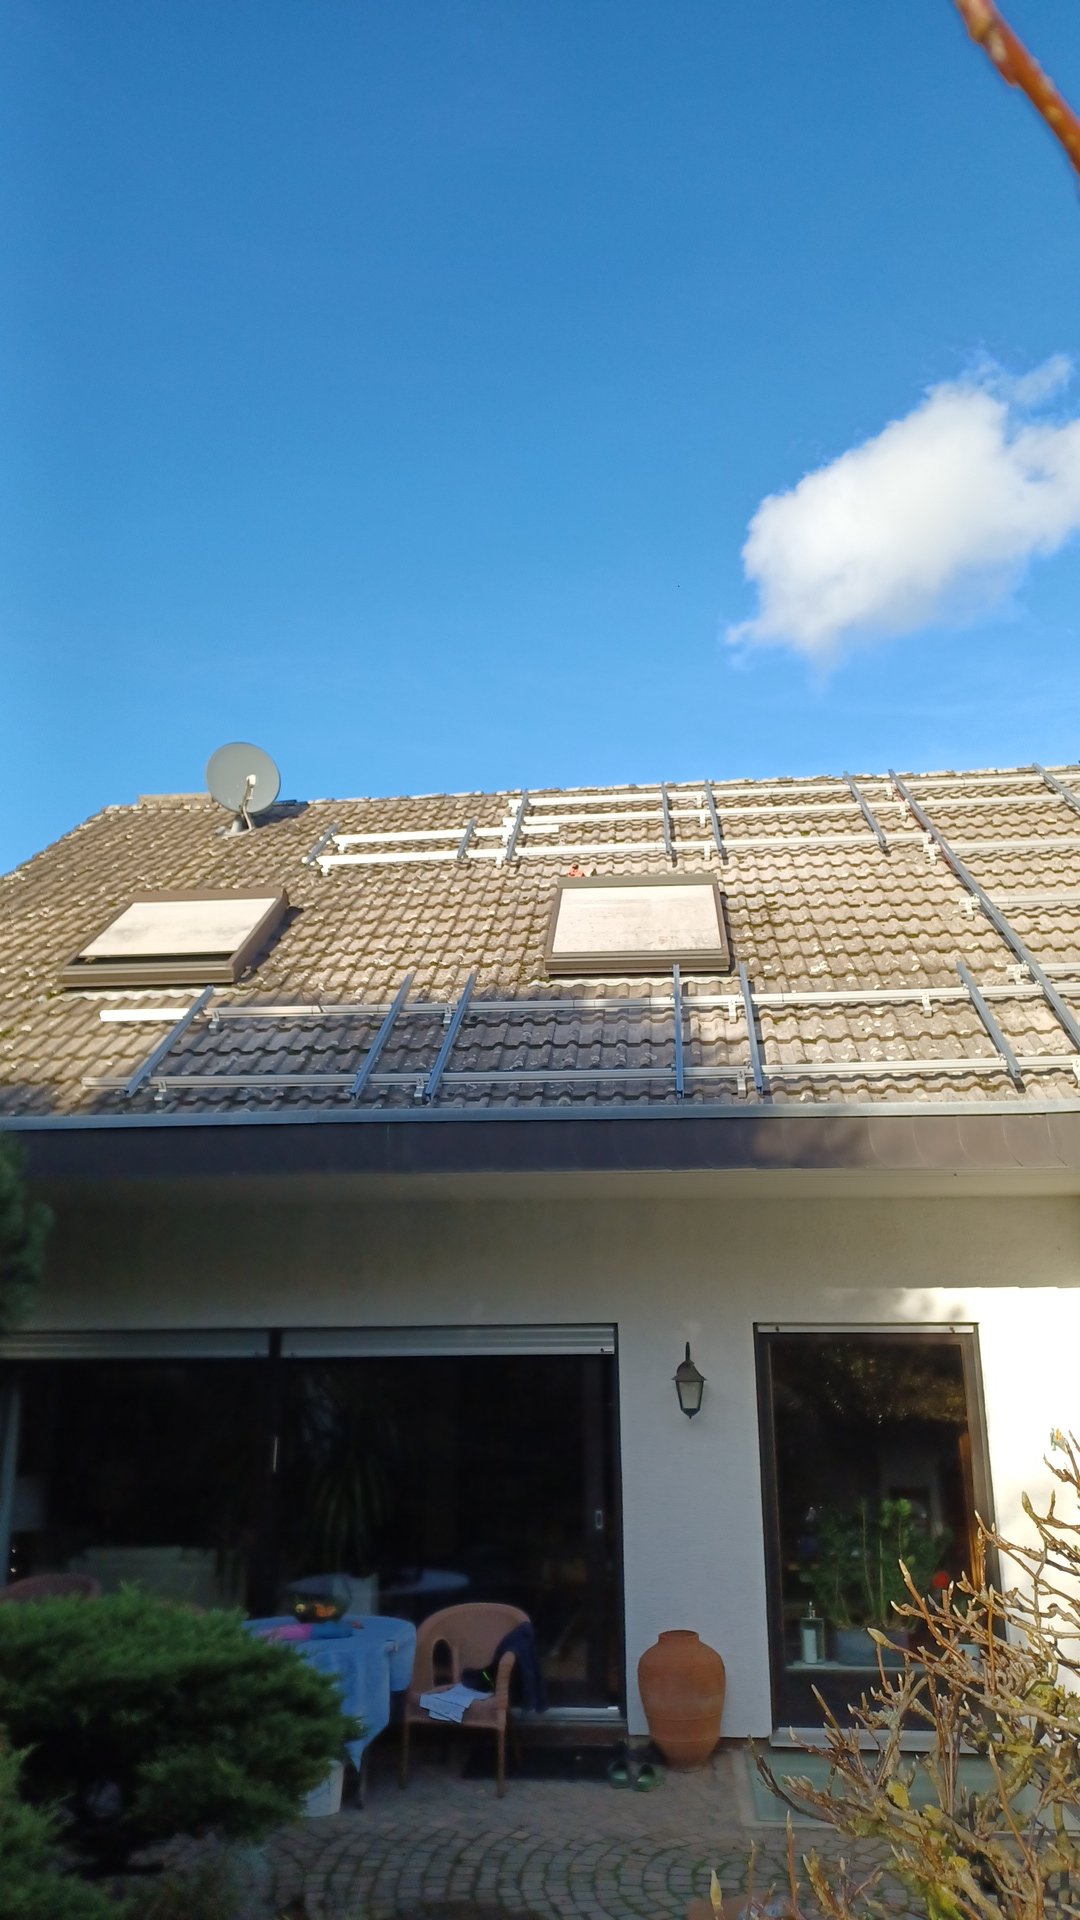hook: (413, 1077, 425, 1106), (154, 1080, 165, 1108), (208, 1010, 220, 1034), (737, 1069, 746, 1098), (922, 992, 932, 1017), (1073, 1058, 1080, 1088), (1013, 967, 1023, 985), (443, 1006, 451, 1030), (728, 1000, 736, 1022), (965, 899, 973, 920), (928, 845, 936, 864), (320, 858, 328, 876), (885, 783, 893, 800), (338, 839, 345, 853), (899, 803, 906, 820), (496, 852, 502, 868), (704, 843, 709, 861), (696, 793, 702, 808), (700, 812, 705, 827), (502, 832, 508, 845), (512, 803, 517, 816), (923, 833, 928, 845)
